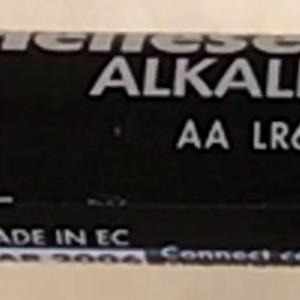ALK: (80, 49, 205, 105)
